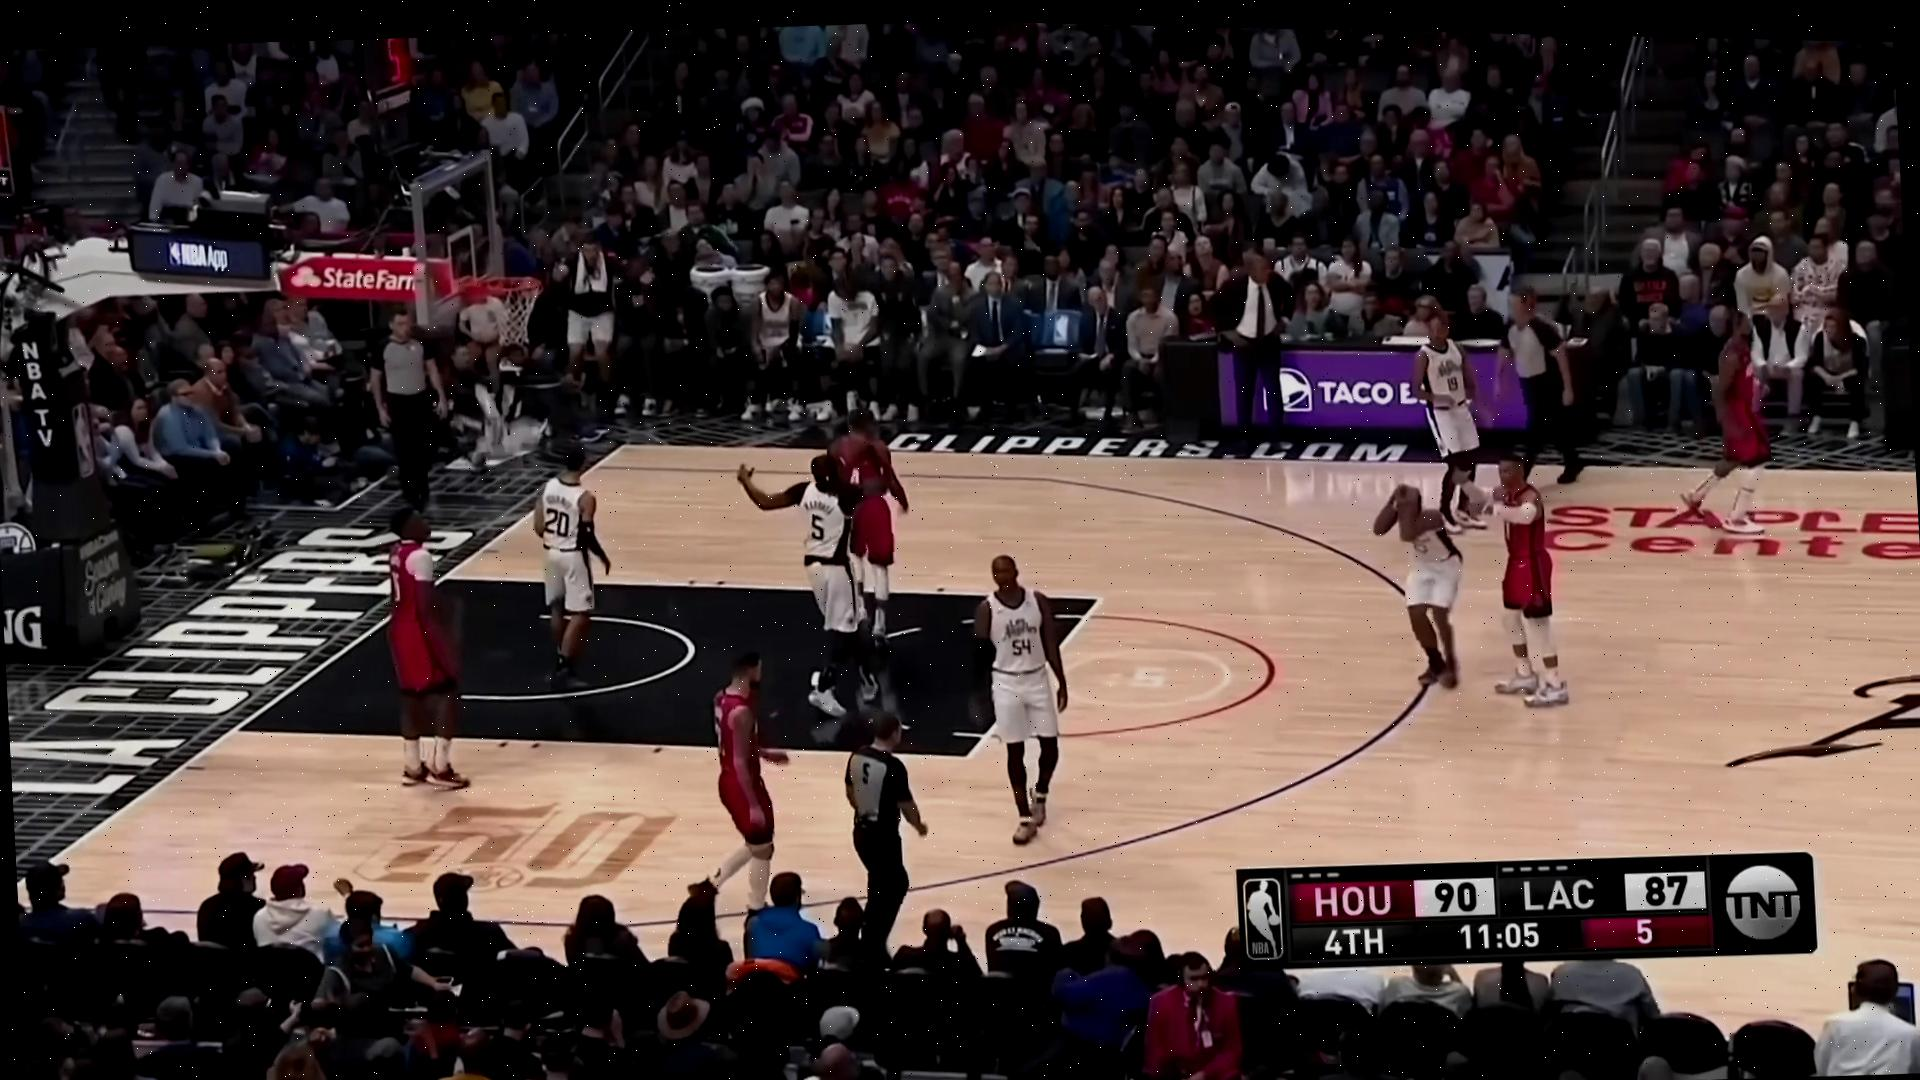no_foul: (737, 400, 931, 720)
